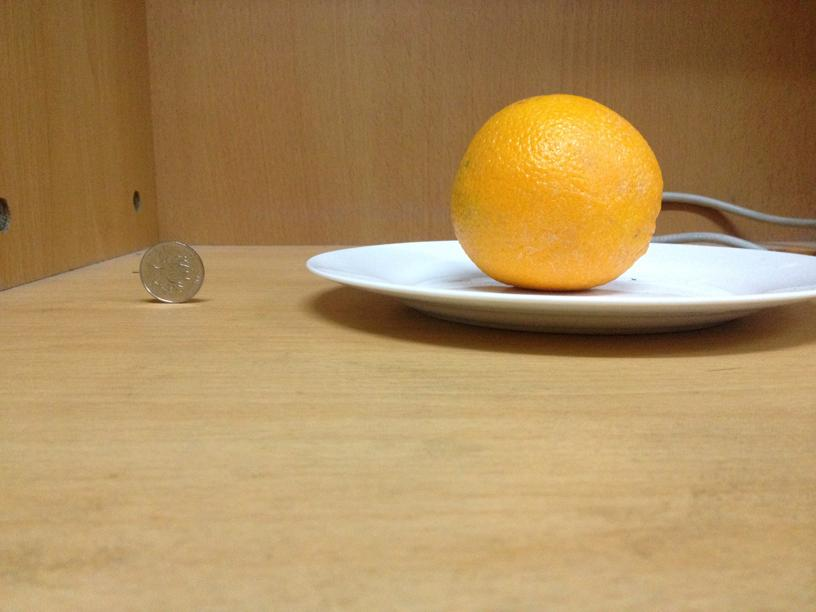coin: (137, 238, 206, 304)
orange: (451, 92, 660, 287)
